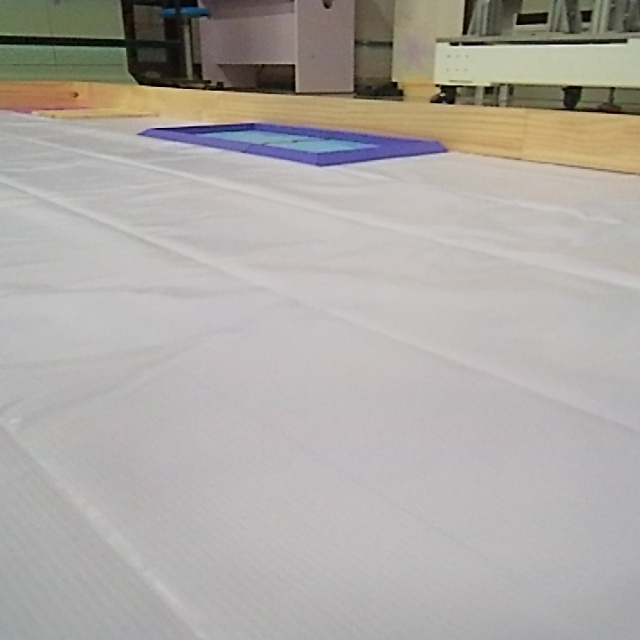zone2: (130, 105, 448, 172)
